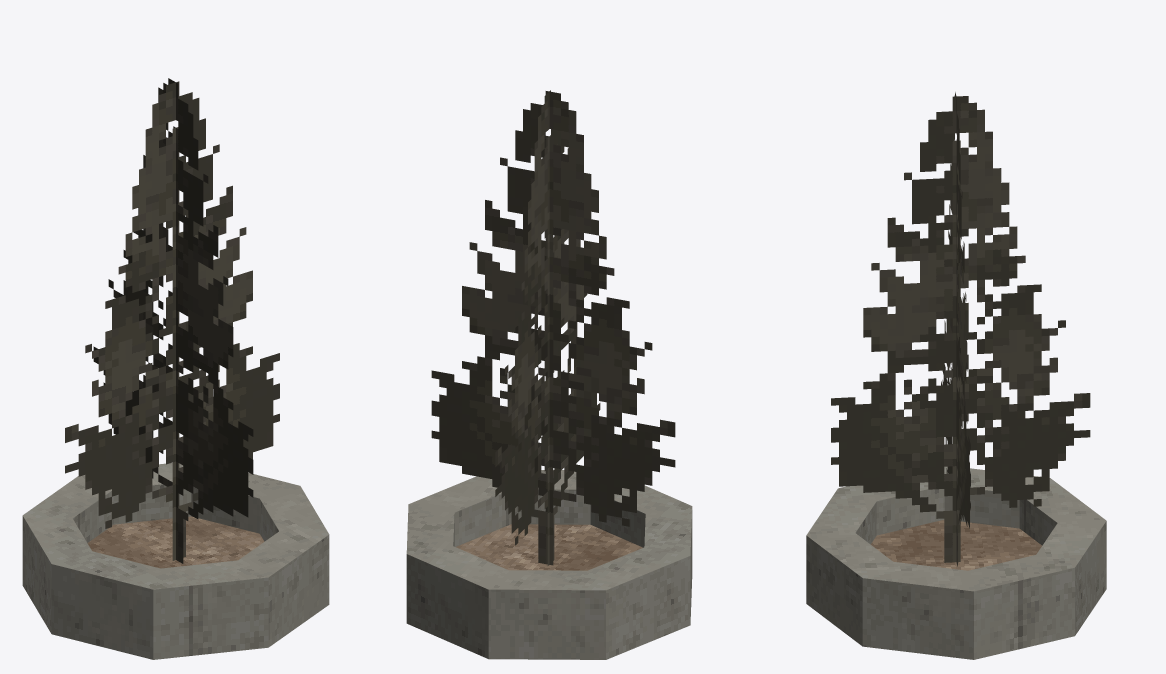
The model's file is procgen-procpain-tree-park-pine-large-x2zm2.obj.
3 renders of one model, left to right at view 1: azimuth 30°, elevation 25°; view 2: azimuth 150°, elevation 25°; view 3: azimuth 270°, elevation 25°, orthographic. The views are drawn at different scales.
Bounding box in the file's own units: 7.71 × 10.9 × 7.71.
